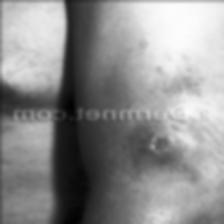Toxin: (127, 120, 196, 170), (166, 72, 202, 96)
